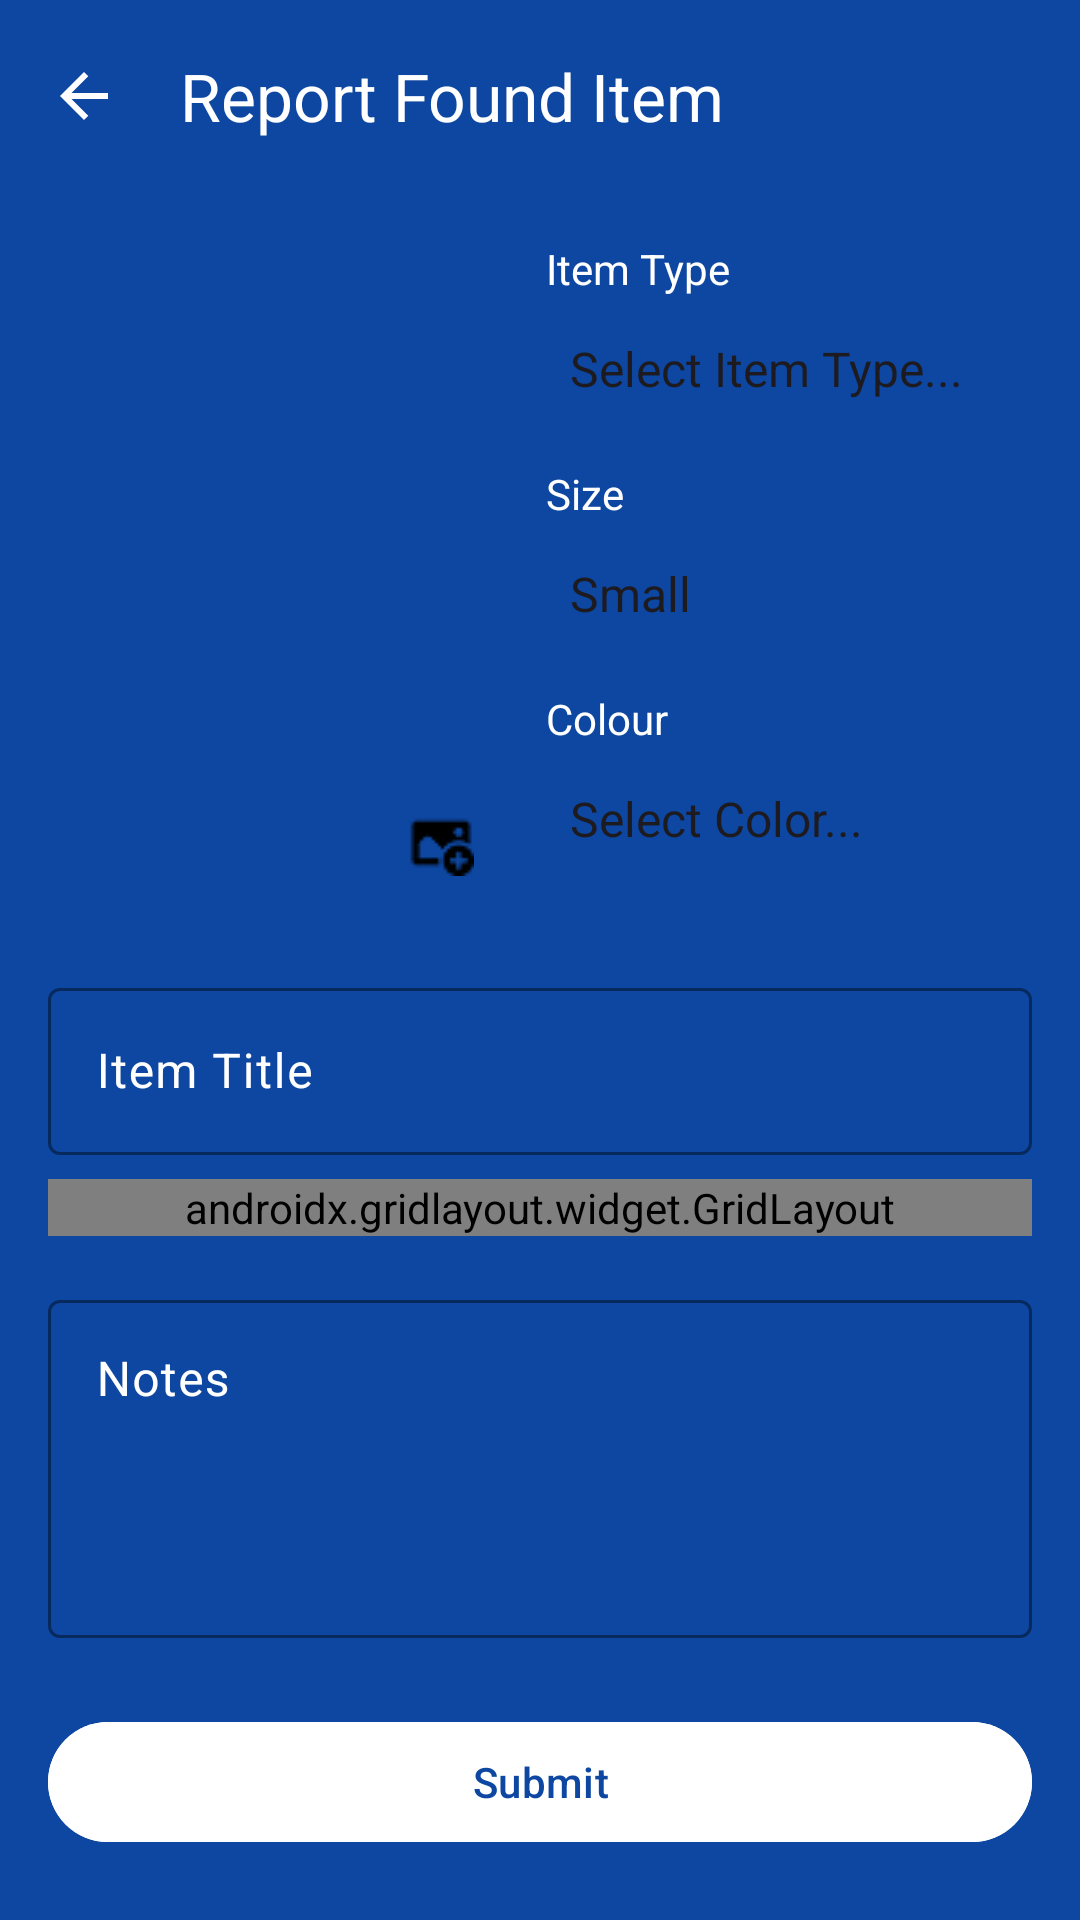

Point at icon controls on the screen. Image size 1080px x 1920px, points as point (x, y).
Upload Image: point (442, 847)
